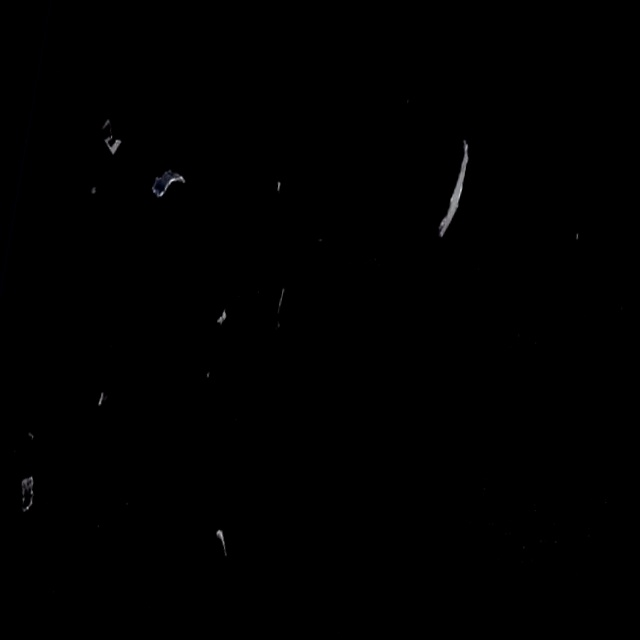large_debris: (427, 115, 485, 258), (139, 146, 198, 220), (88, 98, 135, 174), (263, 261, 304, 343), (5, 455, 49, 522), (205, 288, 243, 349), (204, 515, 242, 572)
